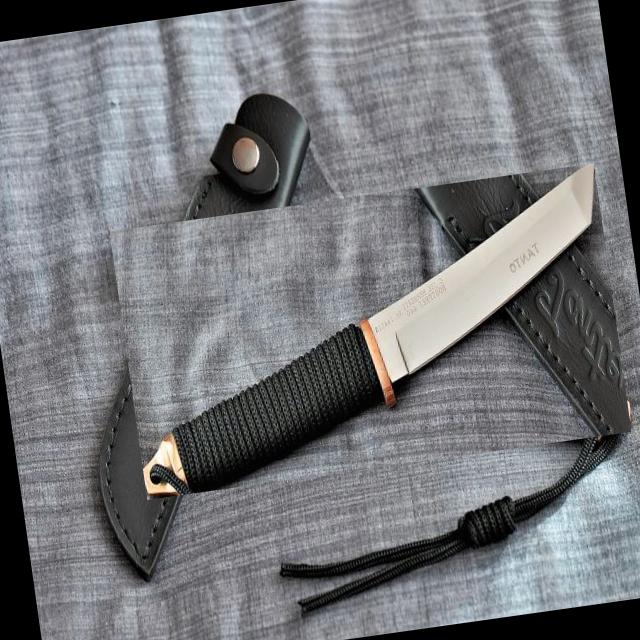Knife: (144, 164, 595, 496)
